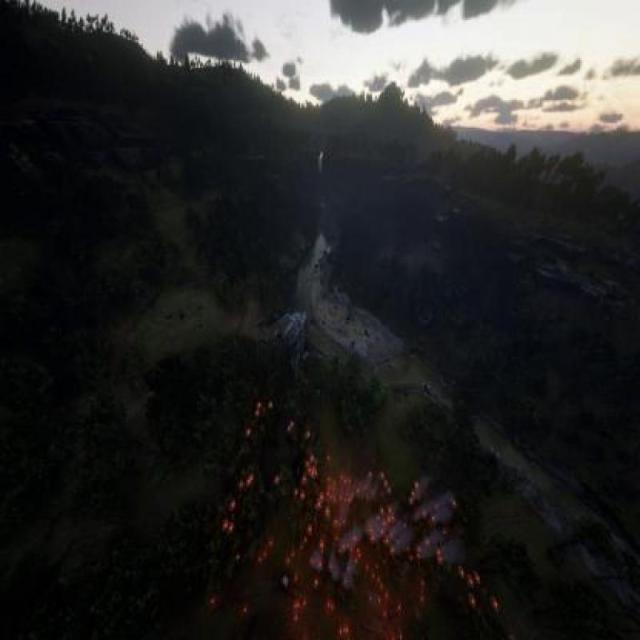Fire: (274, 458, 354, 640), (208, 458, 270, 640), (358, 470, 418, 640), (242, 398, 318, 452), (422, 476, 458, 578), (468, 562, 502, 628)
